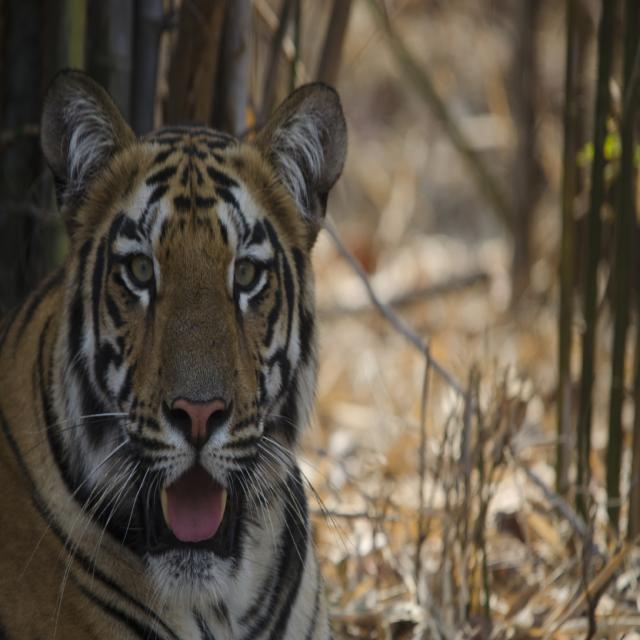Tiger: (0, 71, 350, 639)
